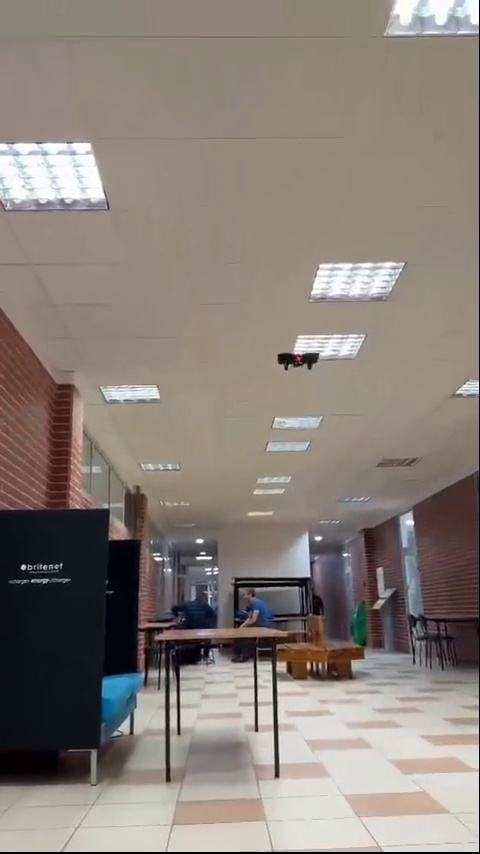drone: (276, 353, 319, 373)
no vest: (236, 587, 279, 629), (176, 592, 221, 631)
